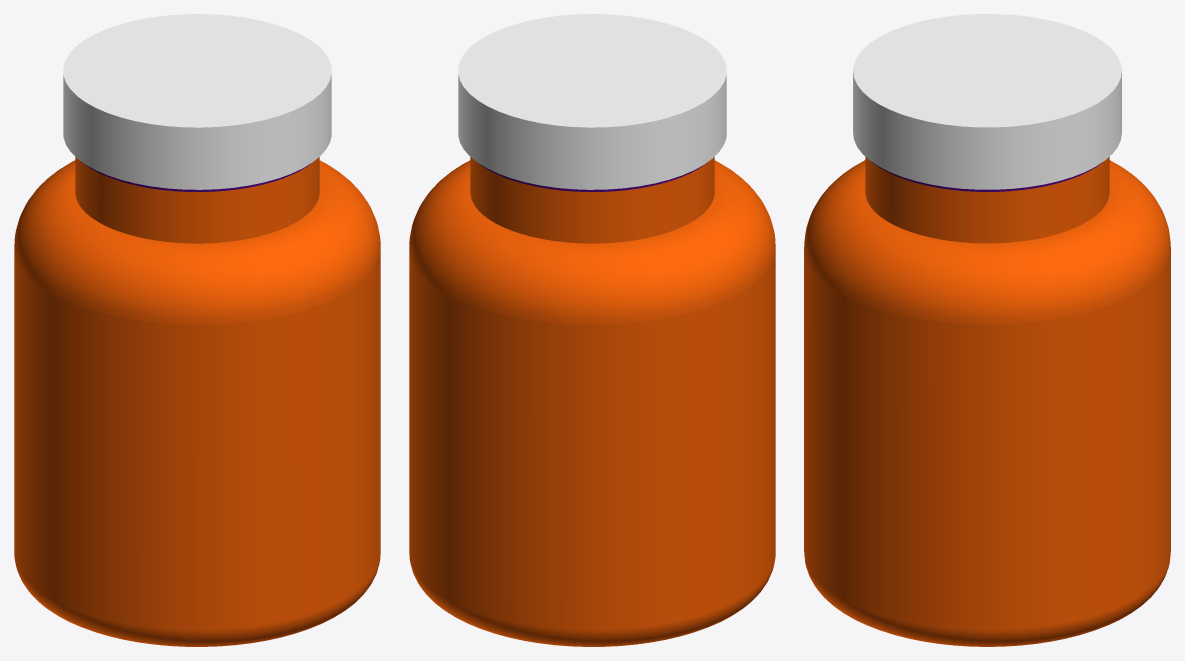
File: bottle.glb
The picture shows the model from 3 angles, left to right: view 1: azimuth 30°, elevation 25°; view 2: azimuth 150°, elevation 25°; view 3: azimuth 270°, elevation 25°; orthographic projection.
Size of the model in its own units: 2.4 by 3.68 by 2.4.
